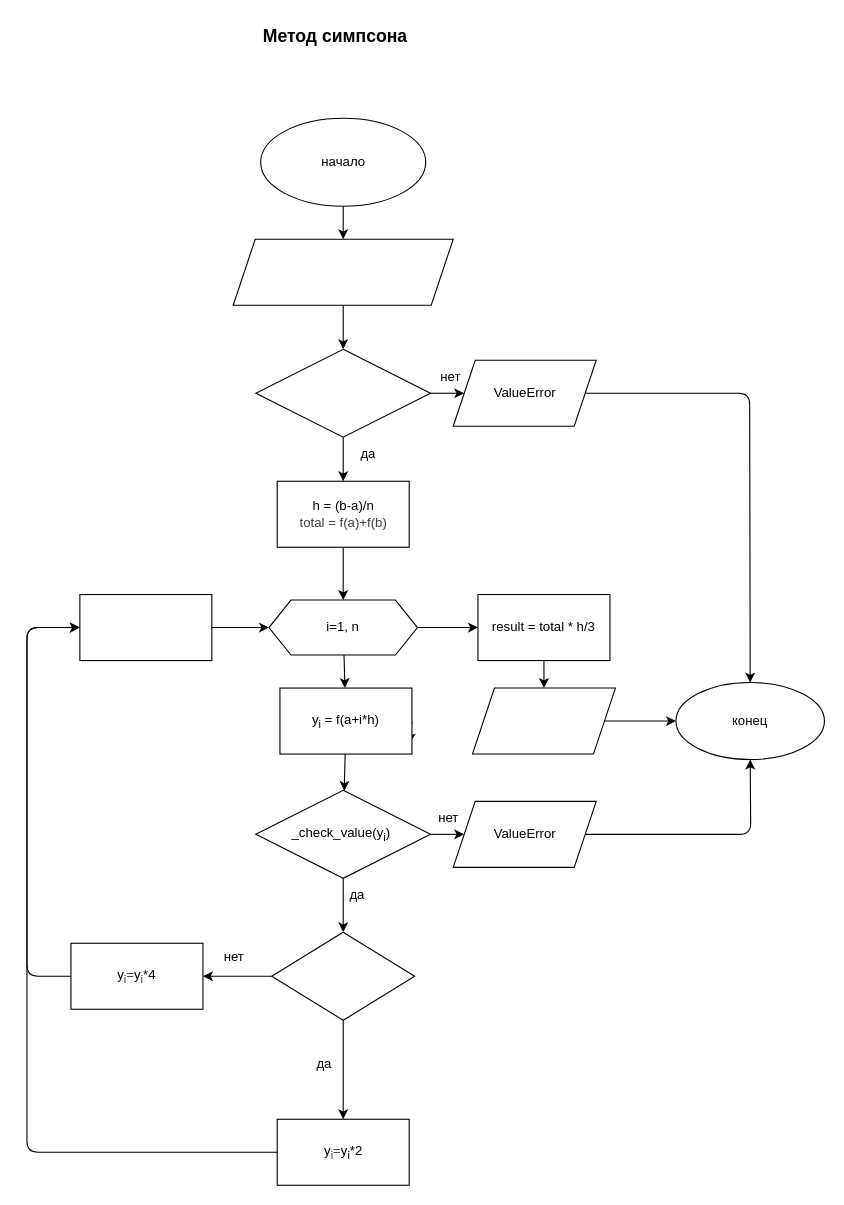
Image size: 844x1205. Some labels were removed from this diagram. Each missing label, with the box of its shape:
_check_value(f(a)) || _check_value(f(b) ): (255, 348, 431, 437)
f, a, b, n: (232, 238, 453, 305)
total = total + y i: (79, 593, 212, 661)
y i %2==0: (271, 931, 415, 1020)
Вывод: result: (471, 687, 615, 754)
